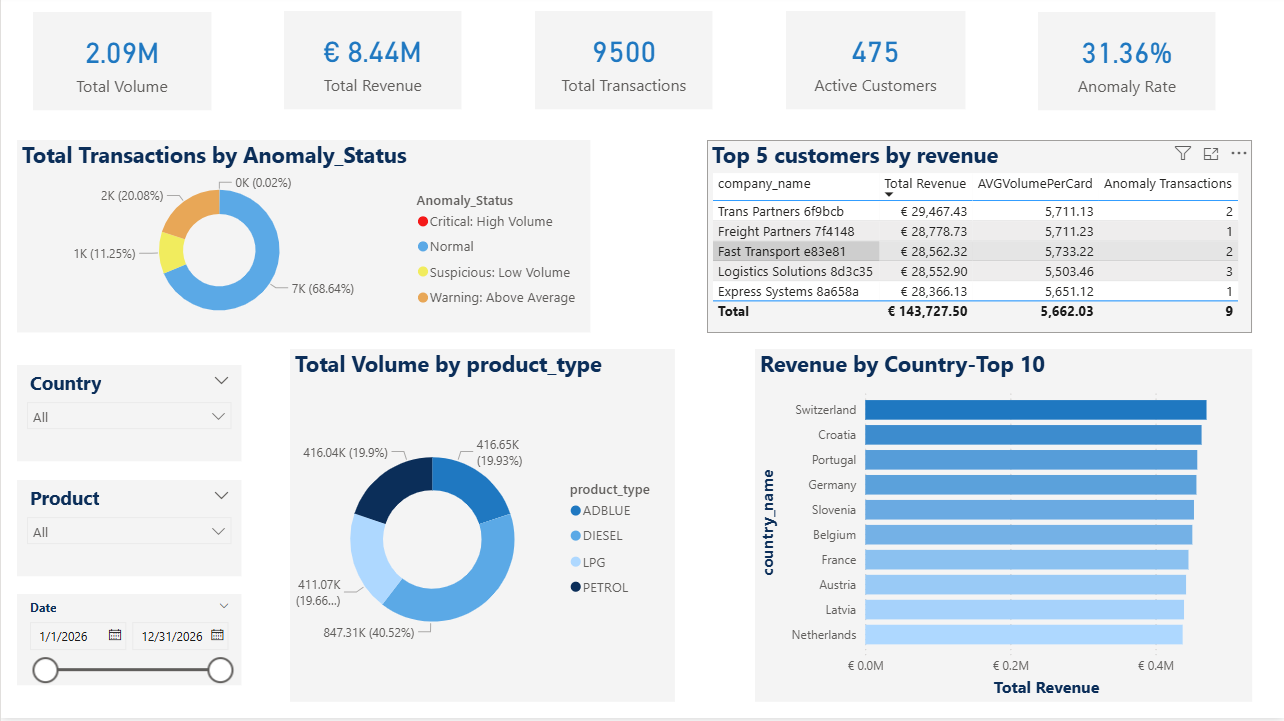

Layout of this report page (visuals, bound fields, positions):
{"tool":"powerbi","page":{"name":"Page 1","canvas":[1280,720],"ordinal":0},"visuals":[{"type":"card","fields":{"Values":["_measures.TotalVolume"]},"box":[31.9,15.6,177.6,97.8],"z":0},{"type":"card","fields":{"Values":["_measures.TotalRevenueEUR"]},"box":[282.4,15.2,177.4,98.3],"z":1000},{"type":"card","fields":{"Values":["_measures.TransactionCount"]},"box":[532.6,15.3,177.4,98.3],"z":2000},{"type":"card","fields":{"Values":["_measures.Active_Customers"]},"box":[782.9,15.5,178.6,98.3],"z":3000},{"type":"card","fields":{"Values":["_measures.Anomaly Rate"]},"box":[1034.3,15.6,177.4,98.3],"z":4000},{"type":"donutChart","fields":{"Category":["Transactions.Anomaly_Status"],"Y":["_measures.TransactionCount"]},"box":[15.6,143.8,571.7,191.8],"z":5000},{"type":"clusteredBarChart","title":"Revenue by Country-Top 10","fields":{"Category":["countries.country_name"],"Y":["_measures.TotalSpendEUR"]},"box":[752,352,496,352],"z":6000},{"type":"tableEx","title":"Top 5 customers by revenue","fields":{"Values":["Customers.company_name","_measures.TotalSpendEUR","_measures.AVG_Per_Card","_measures.Critical Transactions"]},"box":[704,144,544,192],"z":7000},{"type":"donutChart","fields":{"Category":["Transactions.product_type"],"Y":["_measures.TotalVolume"]},"box":[288,352,384,352],"z":8000},{"type":"slicer","fields":{"Values":["countries.country_name"]},"box":[15.9,368,224,96],"z":9000},{"type":"slicer","fields":{"Values":["Transactions.product_type"]},"box":[16,482.4,224,96],"z":10000},{"type":"slicer","fields":{"Values":["Calendar.Date"]},"box":[15.6,596.9,224.1,91.1],"z":11000}]}

Visuals, with their boxes in screenshot pixels (x1, y1, x2, y2), scaled from the page's 1280x720 canvas onto the 1284x721 screenshot:
card - _measures.TotalVolume: detection(32, 16, 210, 114)
card - _measures.TotalRevenueEUR: detection(283, 15, 461, 114)
card - _measures.TransactionCount: detection(534, 15, 712, 114)
card - _measures.Active_Customers: detection(785, 16, 965, 114)
card - _measures.Anomaly Rate: detection(1038, 16, 1215, 114)
donutChart - Transactions.Anomaly_Status x _measures.TransactionCount: detection(16, 144, 589, 336)
"Revenue by Country-Top 10" clusteredBarChart: detection(754, 352, 1252, 705)
"Top 5 customers by revenue" tableEx: detection(706, 144, 1252, 336)
donutChart - Transactions.product_type x _measures.TotalVolume: detection(289, 352, 674, 705)
slicer - countries.country_name: detection(16, 369, 241, 465)
slicer - Transactions.product_type: detection(16, 483, 241, 579)
slicer - Calendar.Date: detection(16, 598, 240, 689)
